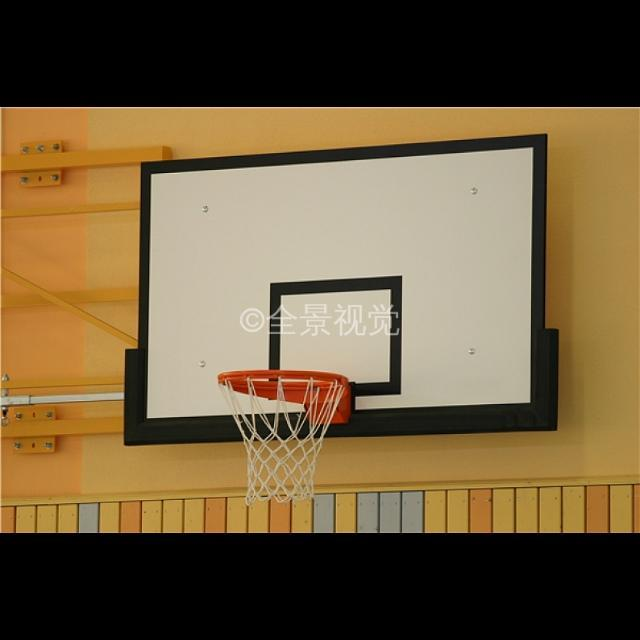rim: (219, 370, 345, 502)
